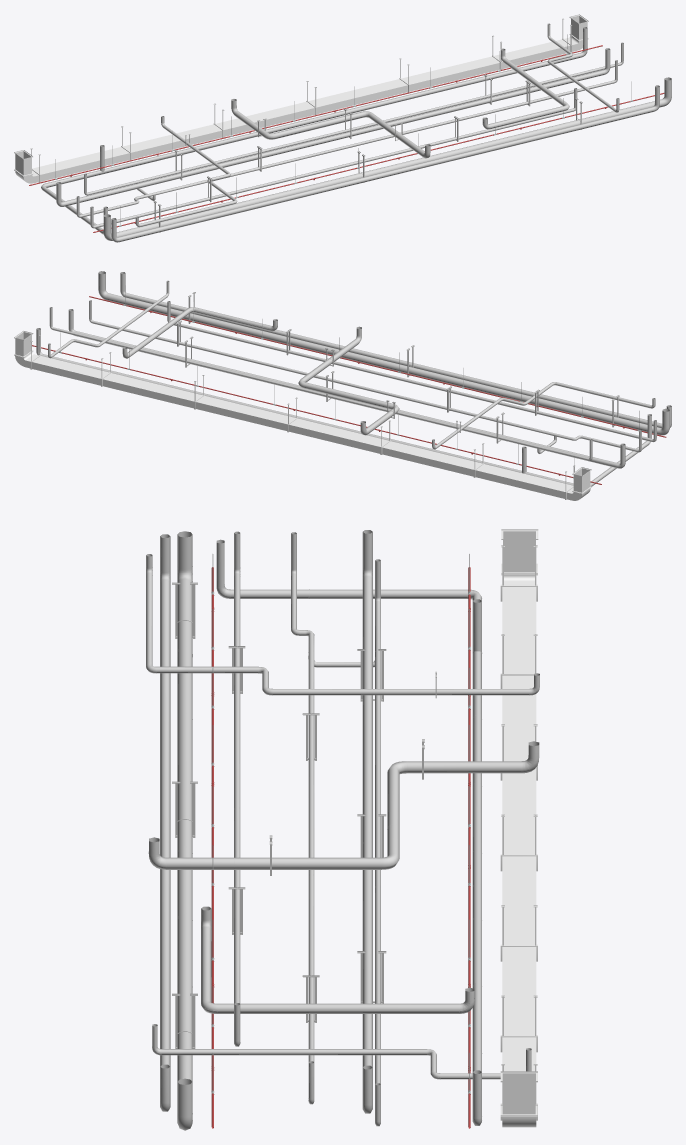
3 renders of one model, top to bottom at view 1: azimuth 30°, elevation 25°; view 2: azimuth 150°, elevation 25°; view 3: azimuth 270°, elevation 25°, orthographic. The views are drawn at different scales.
Parts seen in each view (by area): view 1: SM_H_Building_FutureTech_AssemblyArea_InterWall_02B; view 2: SM_H_Building_FutureTech_AssemblyArea_InterWall_02B; view 3: SM_H_Building_FutureTech_AssemblyArea_InterWall_02B.
Part boxes in pixels (x1=…): SM_H_Building_FutureTech_AssemblyArea_InterWall_02B: x1=14, y1=14, x2=671, y2=242; SM_H_Building_FutureTech_AssemblyArea_InterWall_02B: x1=14, y1=271, x2=671, y2=500; SM_H_Building_FutureTech_AssemblyArea_InterWall_02B: x1=146, y1=529, x2=539, y2=1130.
Size of the model in its own units: 344 by 1156 by 54.79.
